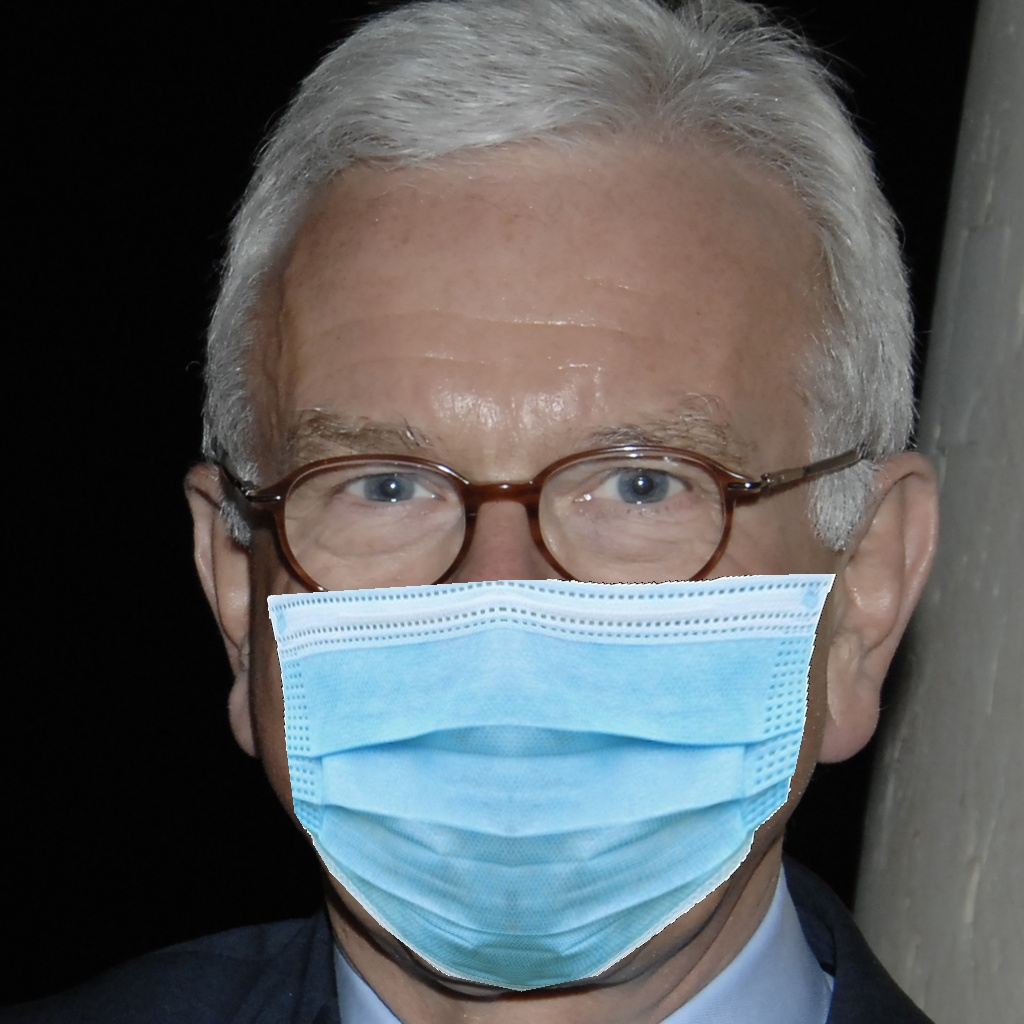Mask: (251, 347, 825, 996)
